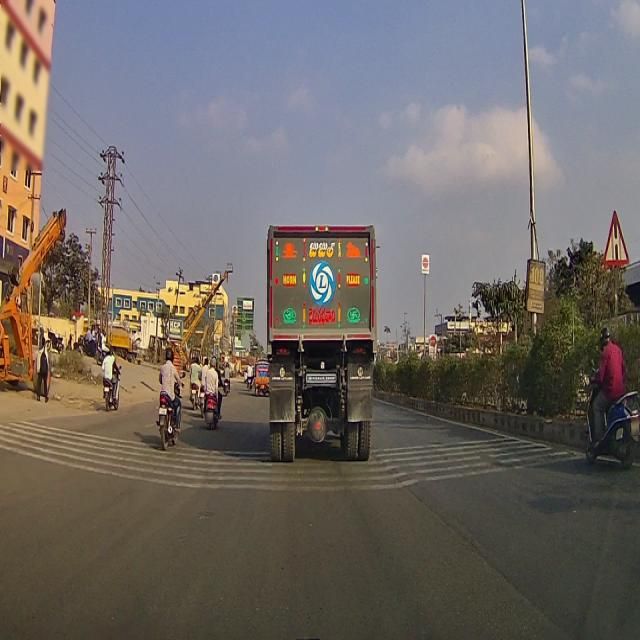gap-in-median: (604, 210, 632, 262)
